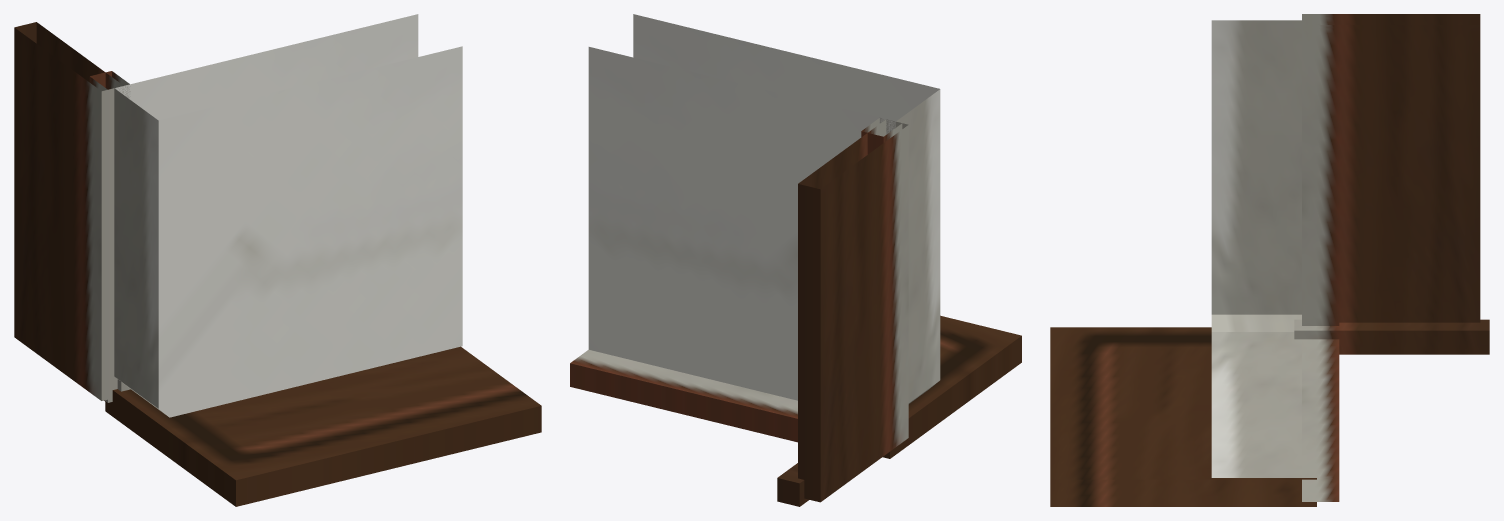
Rendered from pz_bed_bedding_01_large_modern_0_0.obj.
The picture shows the model from 3 angles, left to right: view 1: azimuth 30°, elevation 25°; view 2: azimuth 150°, elevation 25°; view 3: azimuth 270°, elevation 25°; orthographic projection. The views are drawn at different scales.
Bounding box in the file's own units: 0.995 × 0.985 × 1.17.
1 material, 1 textured.
